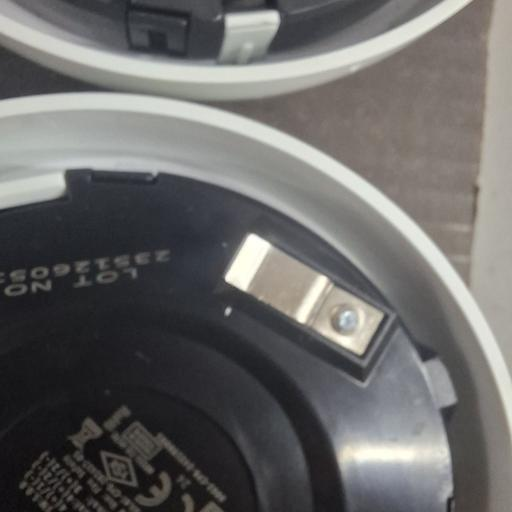yaysiz: (215, 222, 387, 355)
